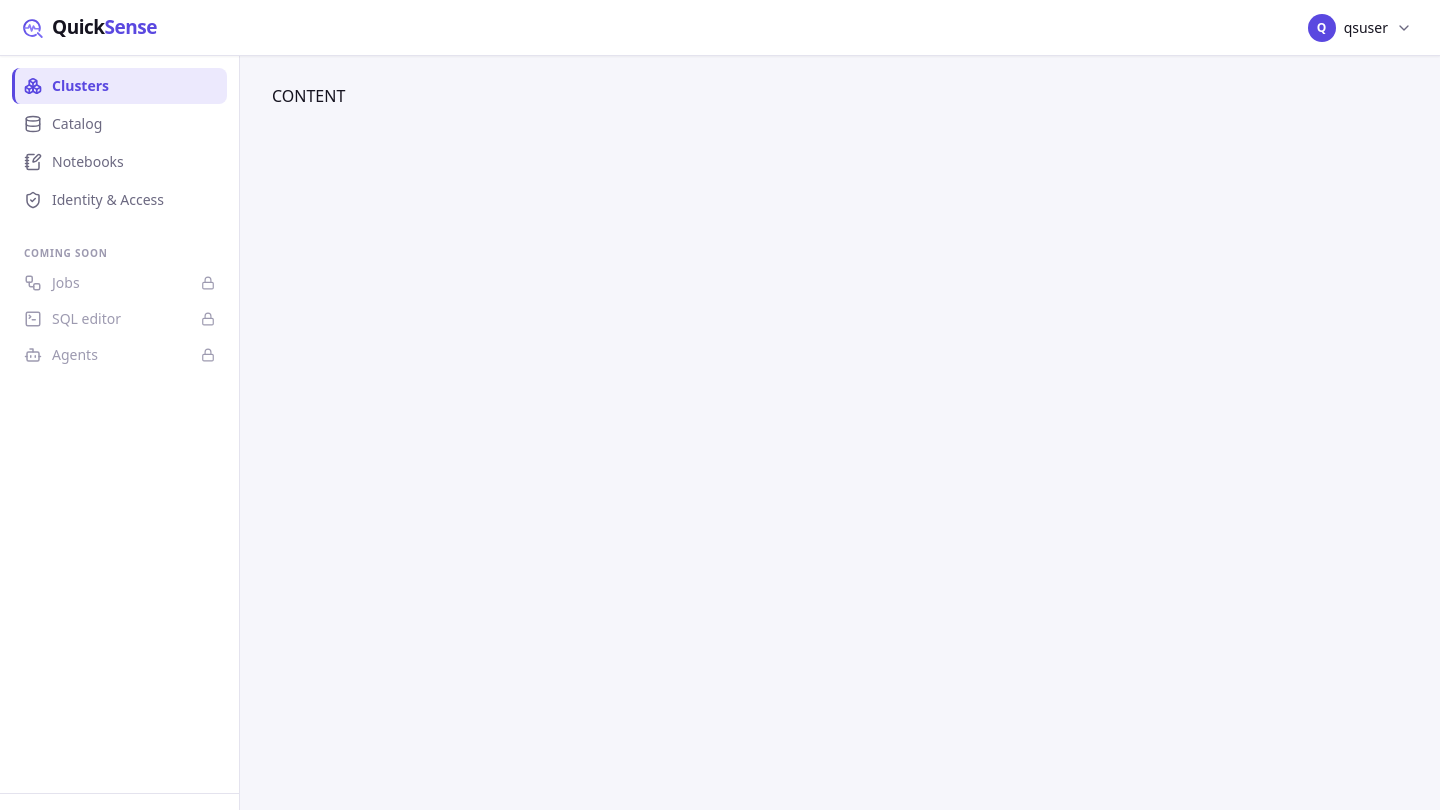
Test: AppShell › reveals Log out via the user menu dropdown
Click the button "Q qsuser" at (1362, 28), box [1304, 10, 1420, 46]
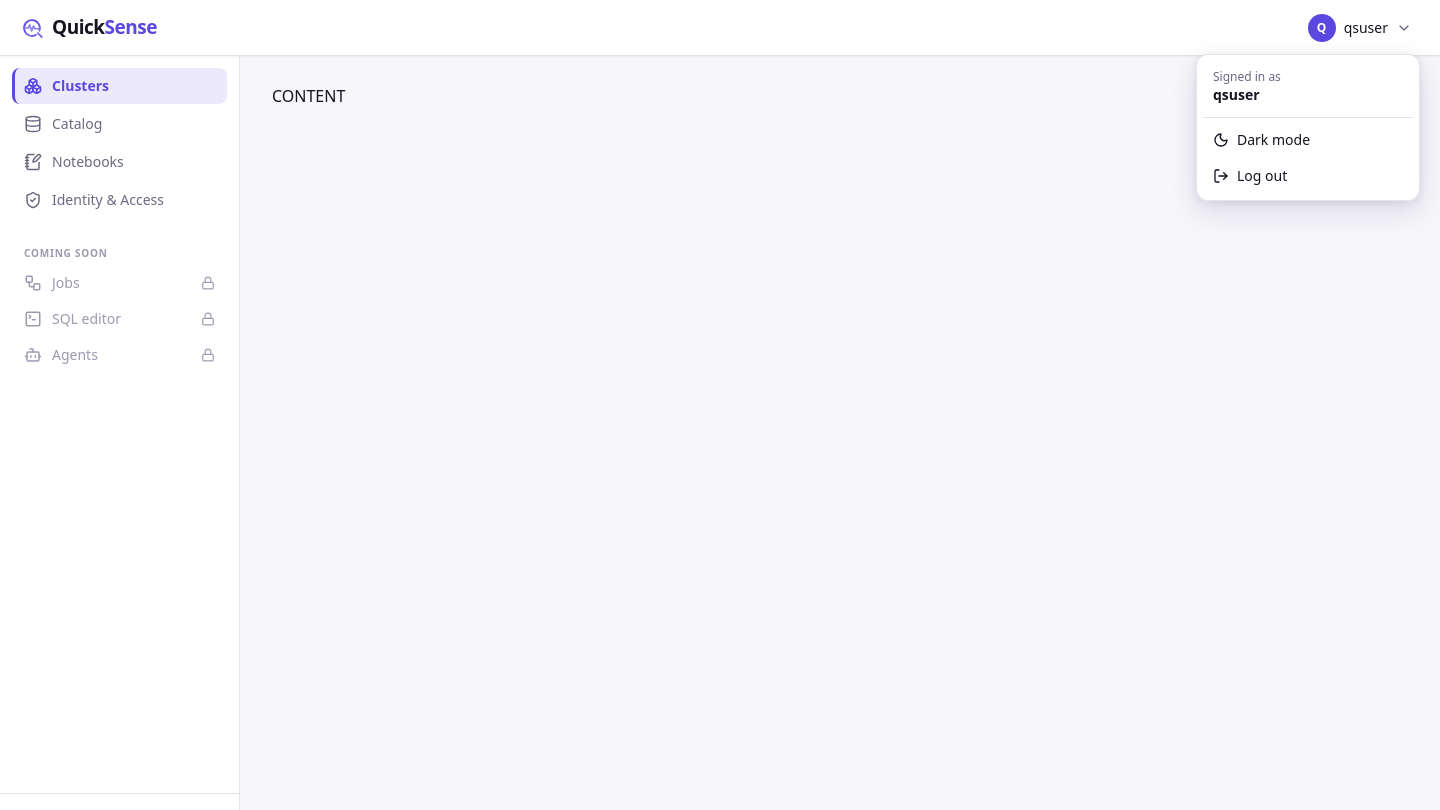
Check: the menu item "Log out" is shown, box [1203, 158, 1413, 194]
